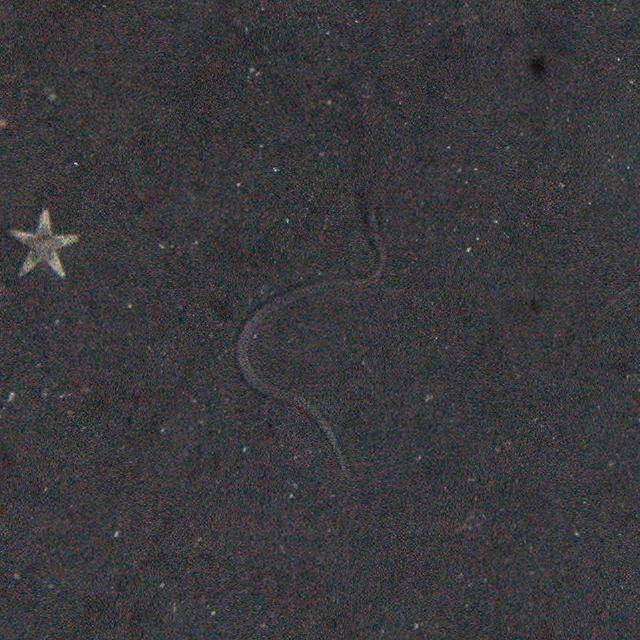eel: (233, 210, 391, 476)
